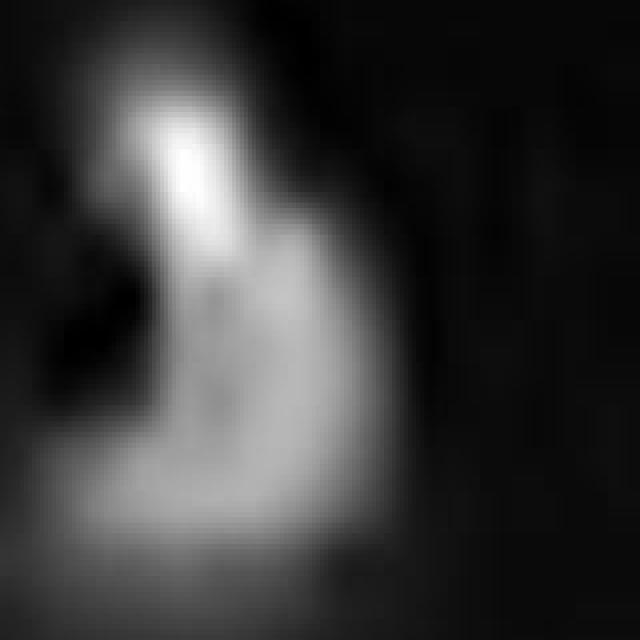person: (70, 47, 423, 612)
